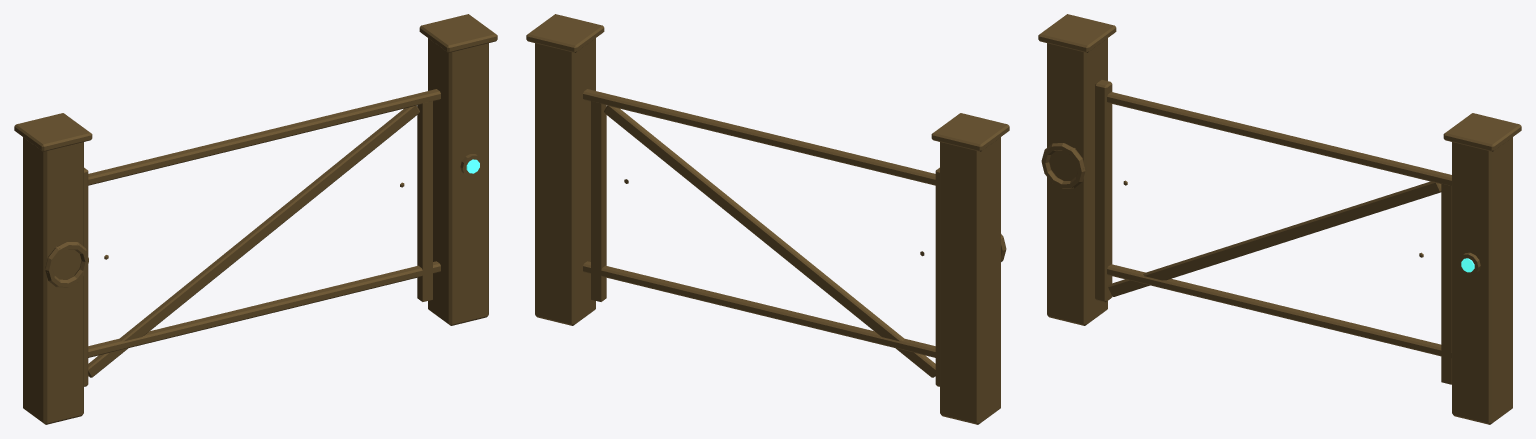
File: SM_Fence_DvergrBrass_08_Gate.fbx
The picture shows the model from 3 angles, left to right: view 1: azimuth 30°, elevation 25°; view 2: azimuth 150°, elevation 25°; view 3: azimuth 330°, elevation 25°; orthographic projection.
Parts seen in each view (by area): view 1: SM_Fence_DvergrBrass_08_Gate_PostHinge, SM_Fence_DvergrBrass_08_Gate_PostLatch, SM_Fence_DvergrBrass_08_Gate_LeafBrace, SM_Fence_DvergrBrass_08_Gate_LeafRailTop, SM_Fence_DvergrBrass_08_Gate_LeafRailBot, SM_Fence_DvergrBrass_08_Gate_LeafStileFar, SM_Fence_DvergrBrass_08_Gate_PostLatch_Cap, SM_Fence_DvergrBrass_08_Gate_PostHinge_Cap, SM_Fence_DvergrBrass_08_Gate_Leaf, SM_Fence_DvergrBrass_08_Gate_Gear; view 2: SM_Fence_DvergrBrass_08_Gate_PostHinge, SM_Fence_DvergrBrass_08_Gate_PostLatch, SM_Fence_DvergrBrass_08_Gate_LeafBrace, SM_Fence_DvergrBrass_08_Gate_LeafRailTop, SM_Fence_DvergrBrass_08_Gate_LeafRailBot, SM_Fence_DvergrBrass_08_Gate_LeafStileFar, SM_Fence_DvergrBrass_08_Gate_PostLatch_Cap, SM_Fence_DvergrBrass_08_Gate_PostHinge_Cap, SM_Fence_DvergrBrass_08_Gate_Leaf; view 3: SM_Fence_DvergrBrass_08_Gate_PostLatch, SM_Fence_DvergrBrass_08_Gate_PostHinge, SM_Fence_DvergrBrass_08_Gate_LeafBrace, SM_Fence_DvergrBrass_08_Gate_LeafRailTop, SM_Fence_DvergrBrass_08_Gate_LeafRailBot, SM_Fence_DvergrBrass_08_Gate_Leaf, SM_Fence_DvergrBrass_08_Gate_LeafStileFar, SM_Fence_DvergrBrass_08_Gate_PostHinge_Cap, SM_Fence_DvergrBrass_08_Gate_PostLatch_Cap, SM_Fence_DvergrBrass_08_Gate_Gear.
Boxes of the visible parts, box(x1,y1,x2,y2) form: SM_Fence_DvergrBrass_08_Gate_PostHinge: box(23, 137, 83, 424); SM_Fence_DvergrBrass_08_Gate_PostLatch: box(428, 38, 488, 325); SM_Fence_DvergrBrass_08_Gate_LeafBrace: box(88, 105, 419, 377); SM_Fence_DvergrBrass_08_Gate_LeafRailTop: box(88, 89, 440, 185); SM_Fence_DvergrBrass_08_Gate_LeafRailBot: box(88, 261, 440, 357); SM_Fence_DvergrBrass_08_Gate_LeafStileFar: box(417, 101, 432, 301); SM_Fence_DvergrBrass_08_Gate_PostLatch_Cap: box(419, 14, 497, 52); SM_Fence_DvergrBrass_08_Gate_PostHinge_Cap: box(14, 113, 92, 151); SM_Fence_DvergrBrass_08_Gate_Leaf: box(84, 167, 88, 386); SM_Fence_DvergrBrass_08_Gate_Gear: box(45, 242, 88, 287); SM_Fence_DvergrBrass_08_Gate_PostHinge: box(940, 137, 1000, 424); SM_Fence_DvergrBrass_08_Gate_PostLatch: box(535, 38, 595, 325); SM_Fence_DvergrBrass_08_Gate_LeafBrace: box(604, 105, 935, 377); SM_Fence_DvergrBrass_08_Gate_LeafRailTop: box(583, 89, 935, 185); SM_Fence_DvergrBrass_08_Gate_LeafRailBot: box(583, 261, 935, 357); SM_Fence_DvergrBrass_08_Gate_LeafStileFar: box(591, 101, 606, 301); SM_Fence_DvergrBrass_08_Gate_PostLatch_Cap: box(526, 14, 604, 52); SM_Fence_DvergrBrass_08_Gate_PostHinge_Cap: box(931, 113, 1009, 151); SM_Fence_DvergrBrass_08_Gate_Leaf: box(935, 167, 939, 386); SM_Fence_DvergrBrass_08_Gate_PostLatch: box(1452, 137, 1512, 424); SM_Fence_DvergrBrass_08_Gate_PostHinge: box(1047, 38, 1107, 325); SM_Fence_DvergrBrass_08_Gate_LeafBrace: box(1108, 181, 1441, 296); SM_Fence_DvergrBrass_08_Gate_LeafRailTop: box(1107, 92, 1451, 185); SM_Fence_DvergrBrass_08_Gate_LeafRailBot: box(1107, 264, 1451, 357); SM_Fence_DvergrBrass_08_Gate_Leaf: box(1095, 80, 1112, 302); SM_Fence_DvergrBrass_08_Gate_LeafStileFar: box(1441, 183, 1451, 384); SM_Fence_DvergrBrass_08_Gate_PostHinge_Cap: box(1038, 14, 1116, 52); SM_Fence_DvergrBrass_08_Gate_PostLatch_Cap: box(1443, 113, 1521, 151); SM_Fence_DvergrBrass_08_Gate_Gear: box(1041, 143, 1085, 188).
Size of the model in its own units: 2.25 by 1.34 by 0.2586.
